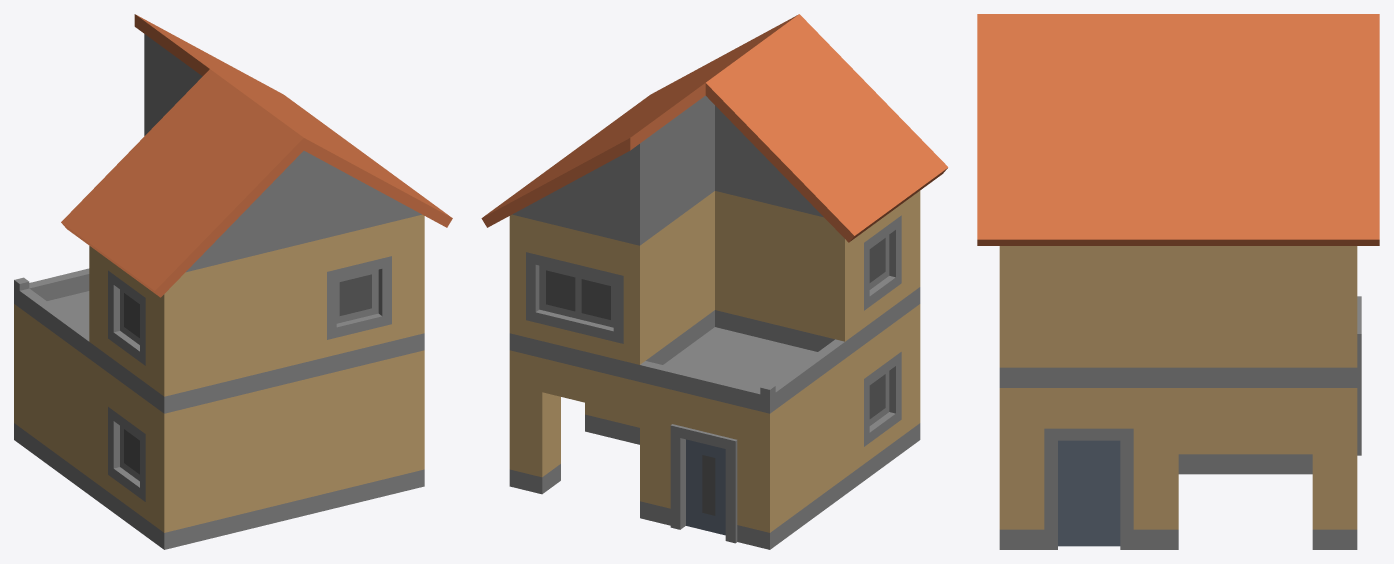
Rendered from SM_Suburb_House_015.fbx.
3 views of the same model, side by side, from view 1: azimuth 30°, elevation 25°; view 2: azimuth 150°, elevation 25°; view 3: azimuth 270°, elevation 25° (orthographic). The views are drawn at different scales.
Visible parts, largest first — view 1: SM_Suburb_House_015; view 2: SM_Suburb_House_015; view 3: SM_Suburb_House_015.
Part boxes in pixels (x1,y1,x2,y2): SM_Suburb_House_015: (14, 14, 452, 549); SM_Suburb_House_015: (481, 14, 948, 549); SM_Suburb_House_015: (977, 14, 1379, 549).
Size of the model in its own units: 660 by 819 by 648.
